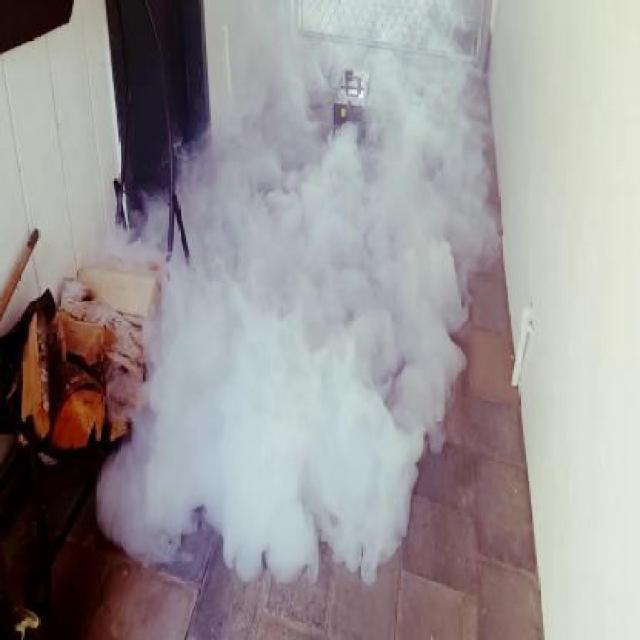smoke: (116, 152, 472, 590), (213, 9, 507, 408)
